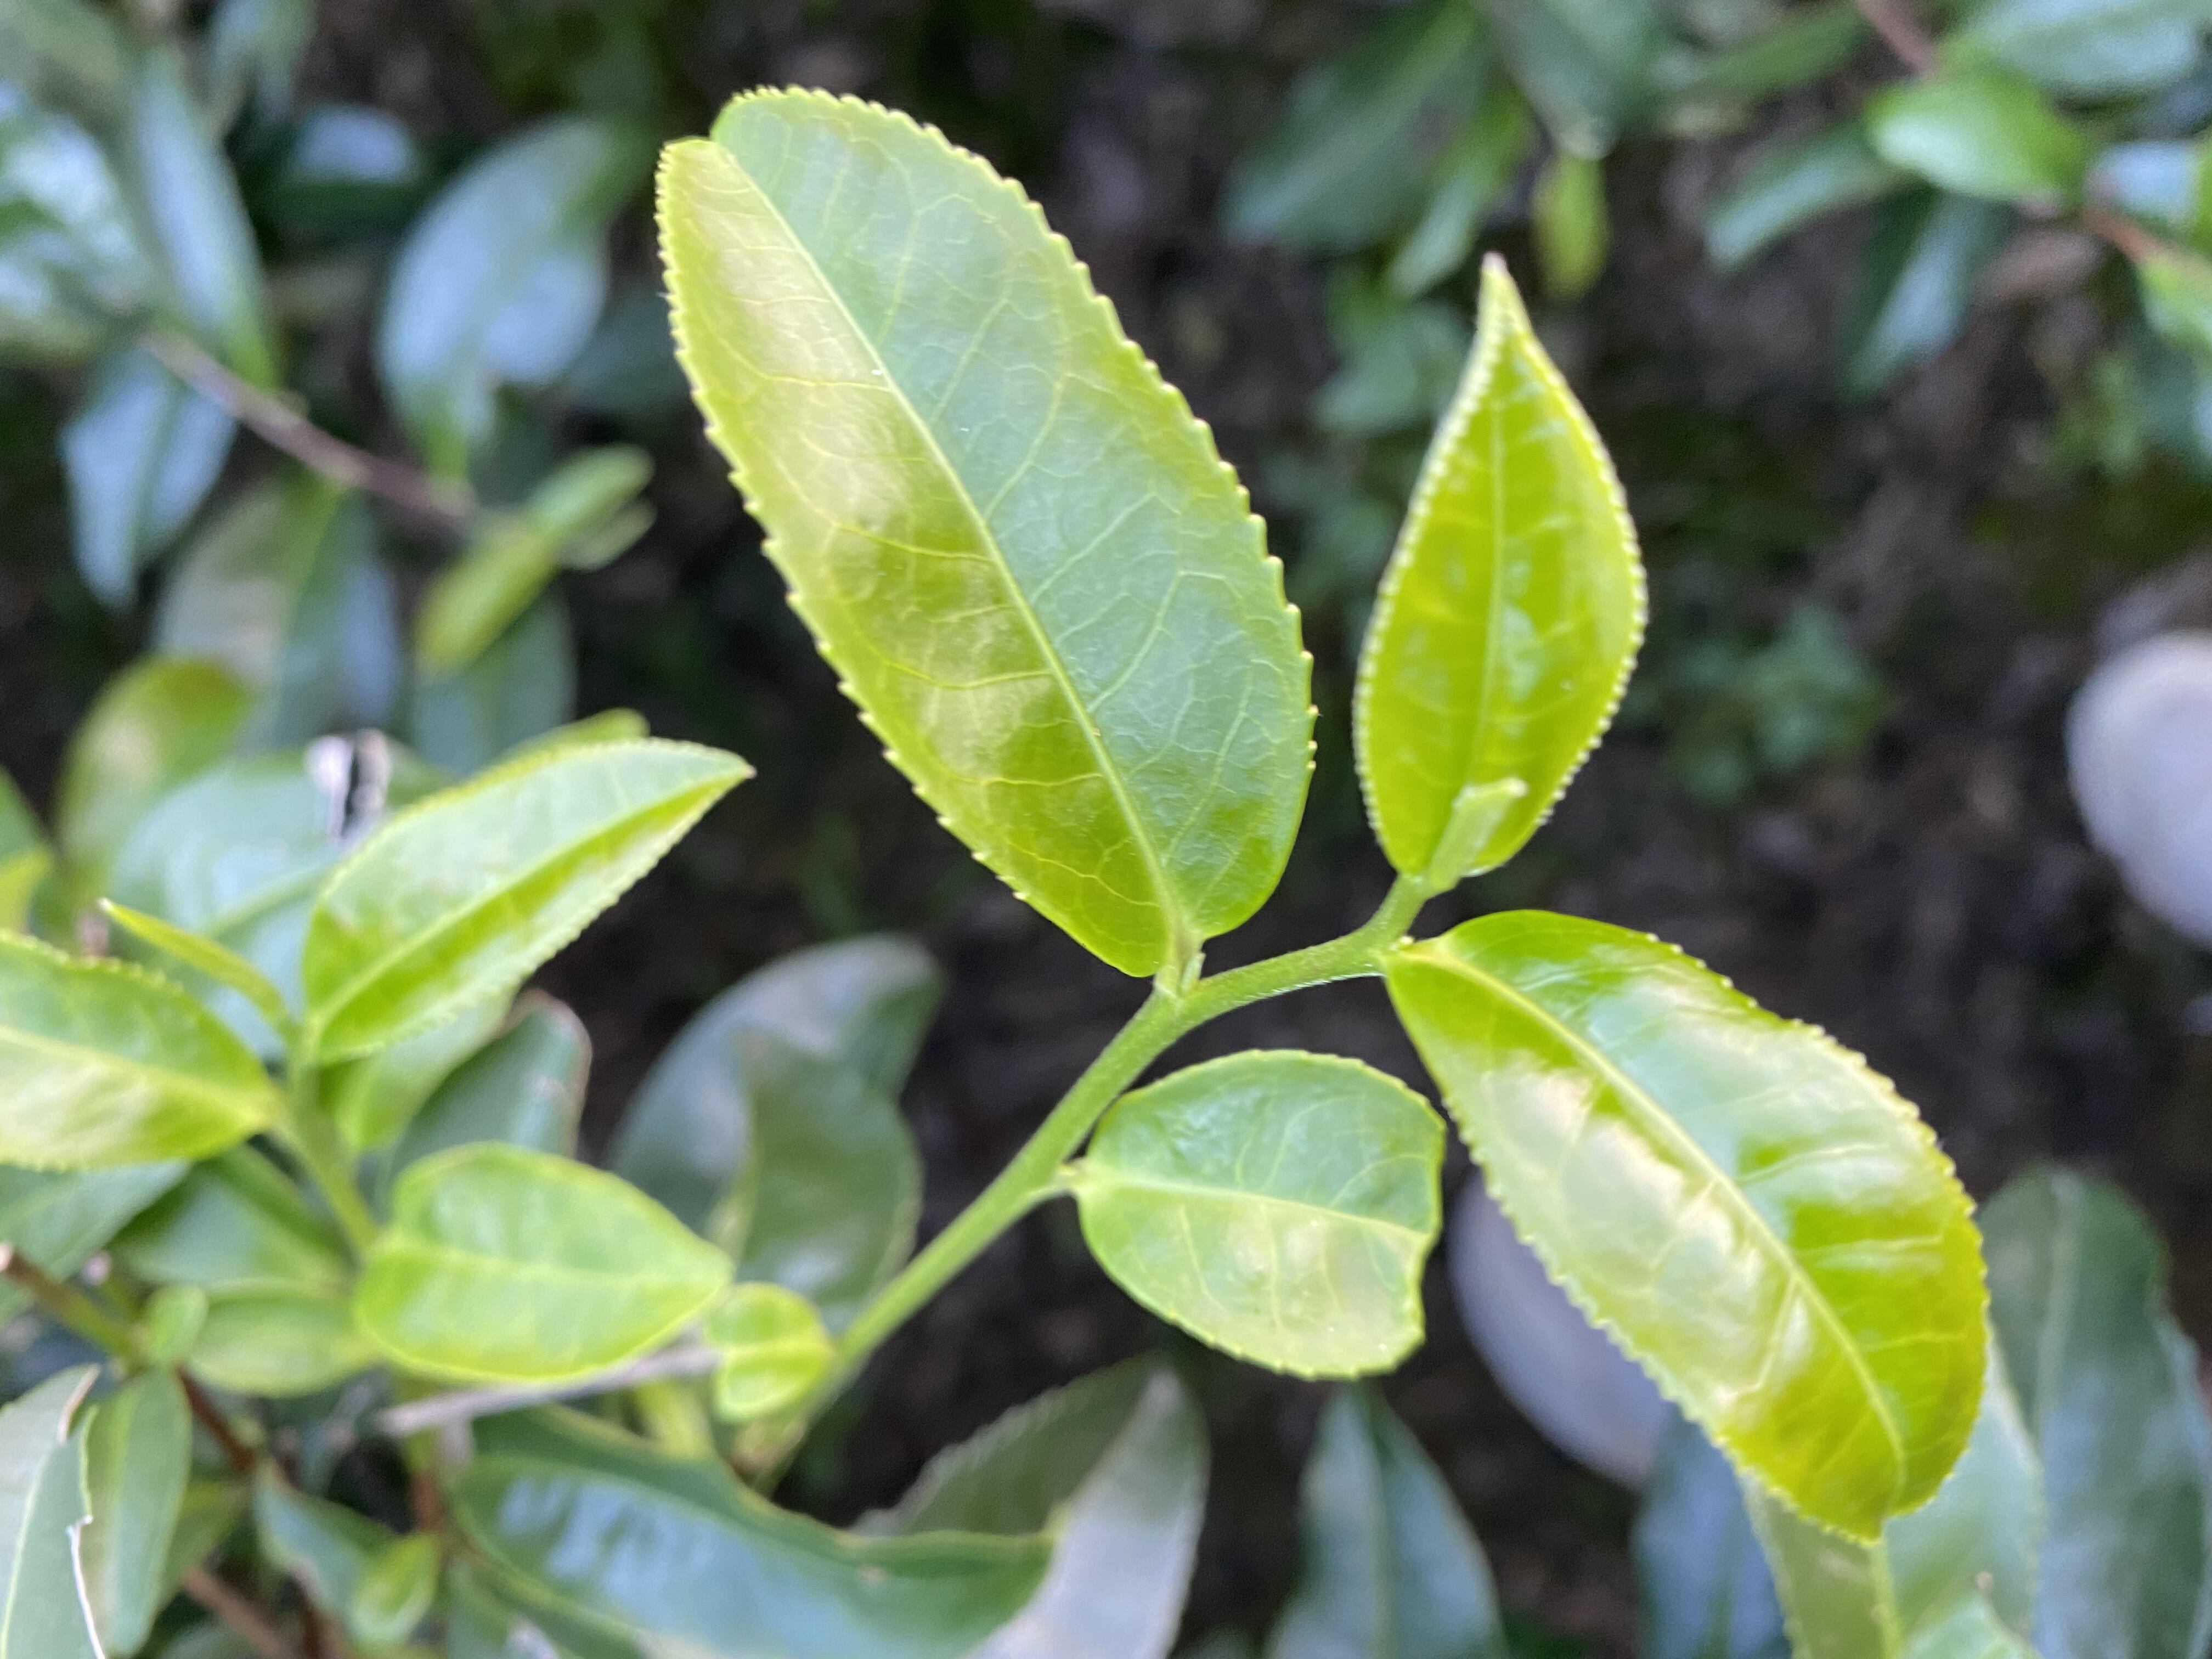chihuo_high: (1076, 1047, 1446, 1380)
healthy: (655, 77, 1325, 974), (1385, 903, 1996, 1544), (1348, 247, 1653, 892)
